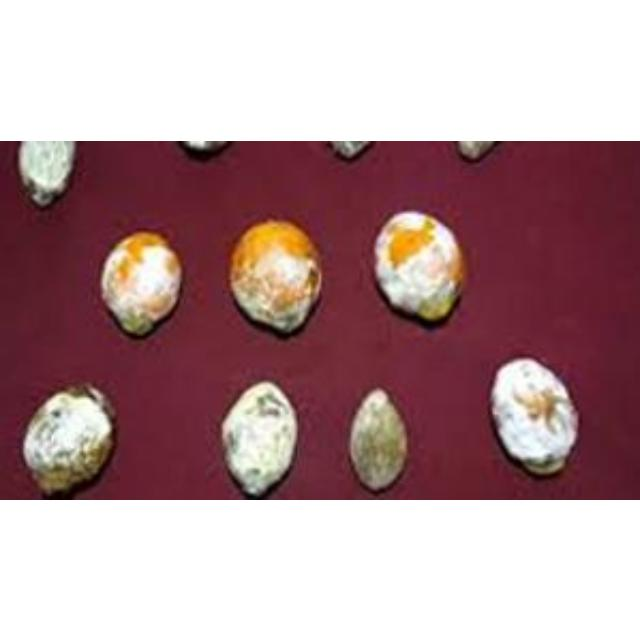damaged: (370, 207, 466, 321), (488, 355, 578, 475), (228, 218, 322, 332), (22, 384, 116, 494), (220, 380, 298, 496), (98, 228, 182, 334), (348, 388, 408, 490), (16, 140, 76, 206)
